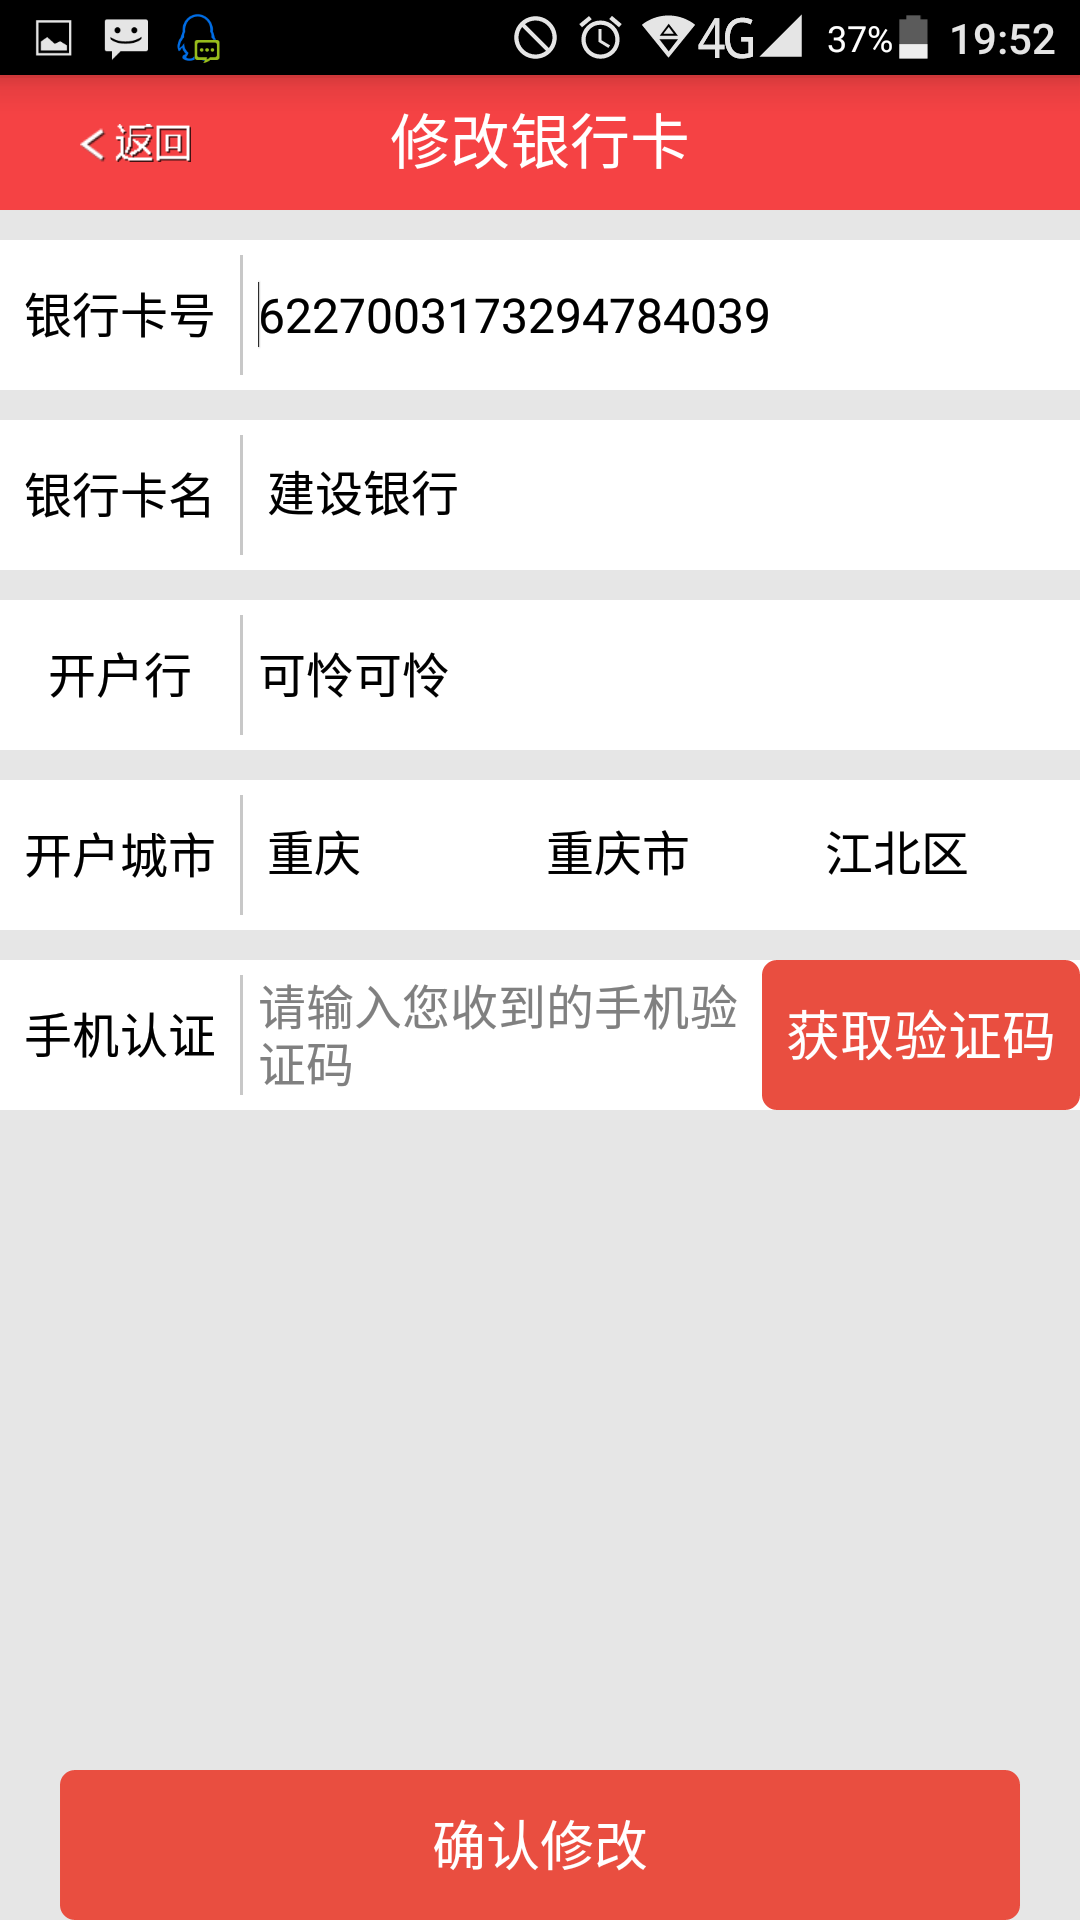button: (757, 955, 1080, 1108)
